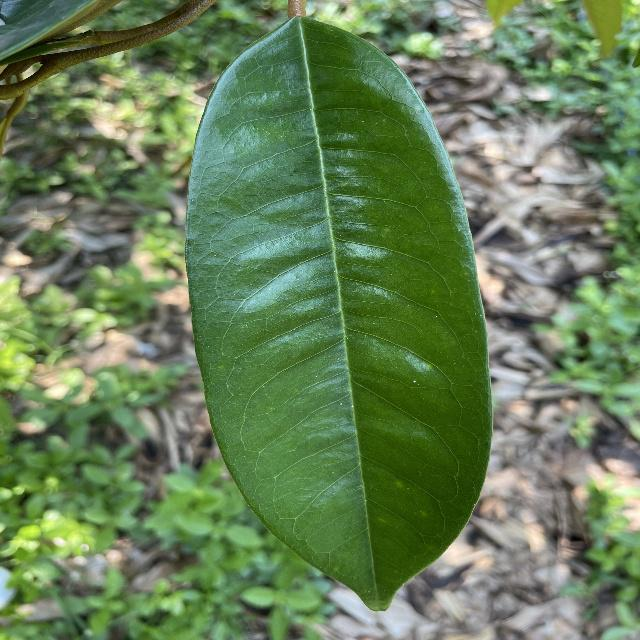No Disease: (183, 7, 507, 615)
